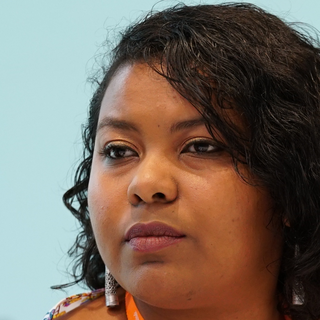eye: (177, 136, 226, 162), (101, 138, 141, 165)
